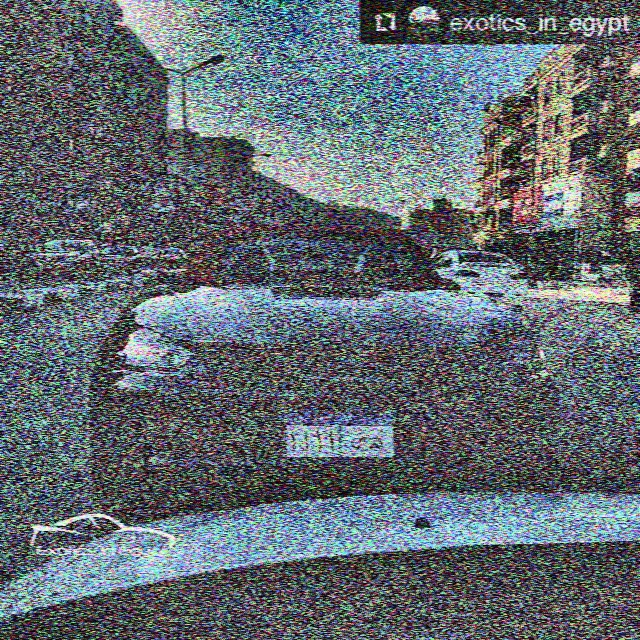License Plate: (277, 400, 400, 463)
